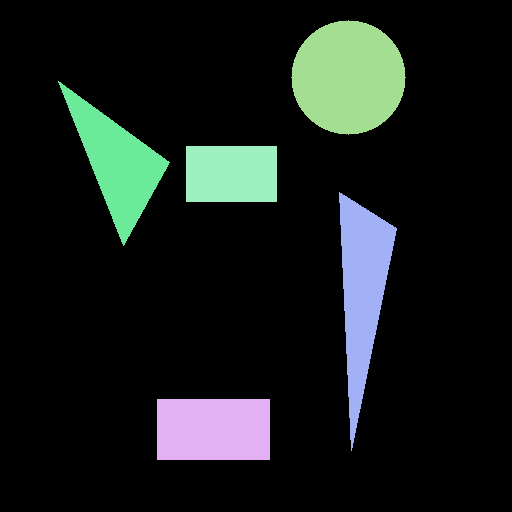circle: (291, 20, 405, 134)
rectangle: (157, 399, 269, 459), (186, 146, 276, 201)
triangle: (58, 81, 169, 245), (339, 192, 396, 450)
